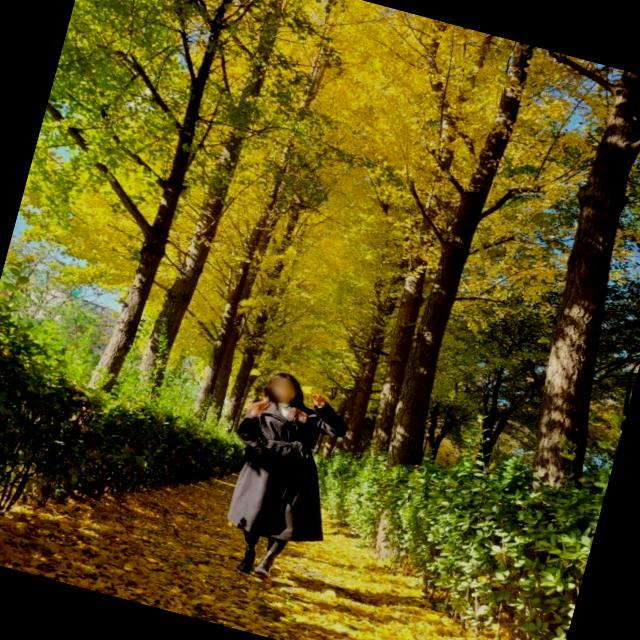coat: (210, 378, 359, 552)
